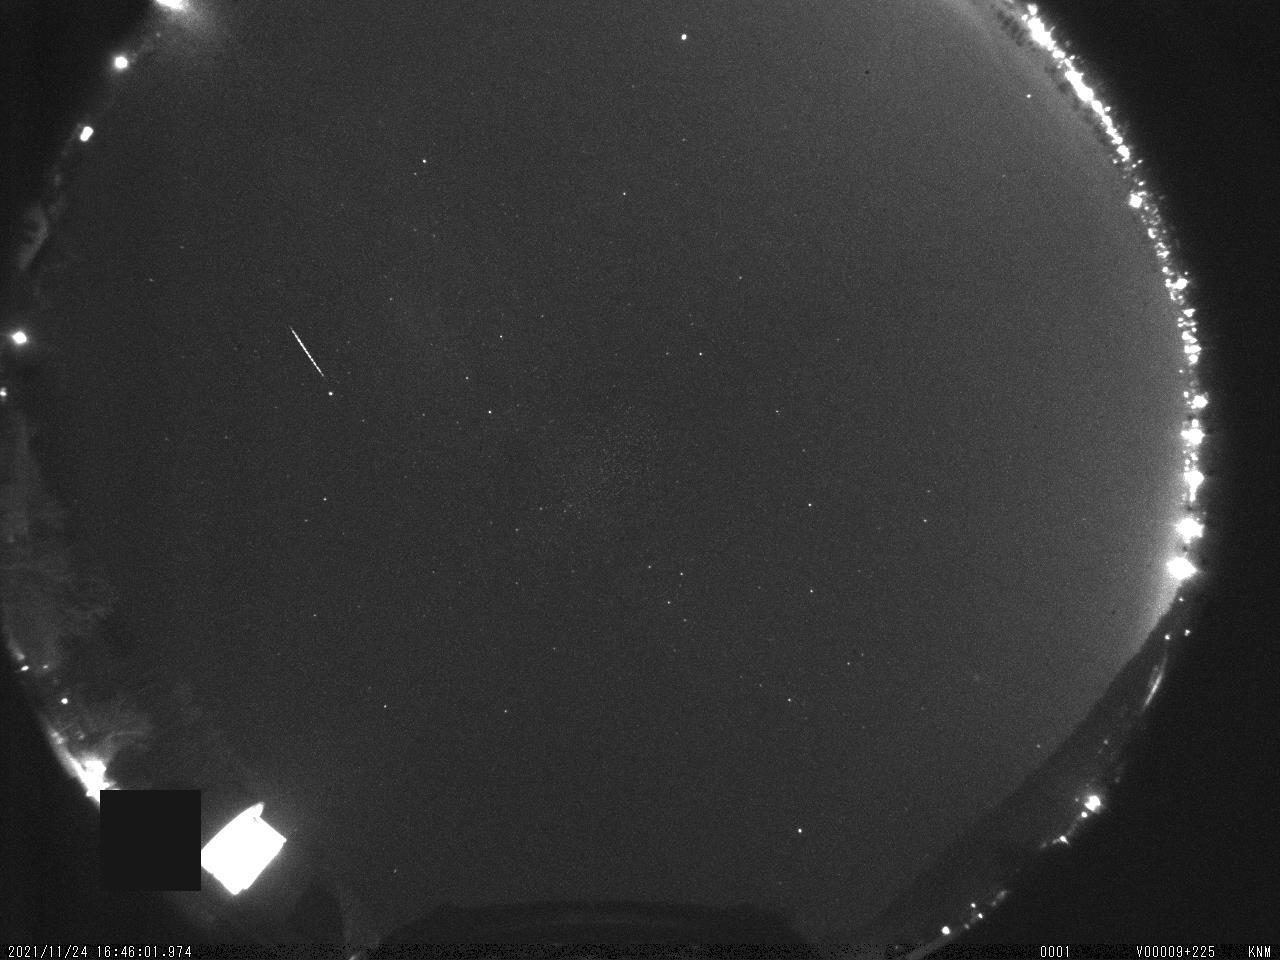meteor: (278, 315, 343, 393)
